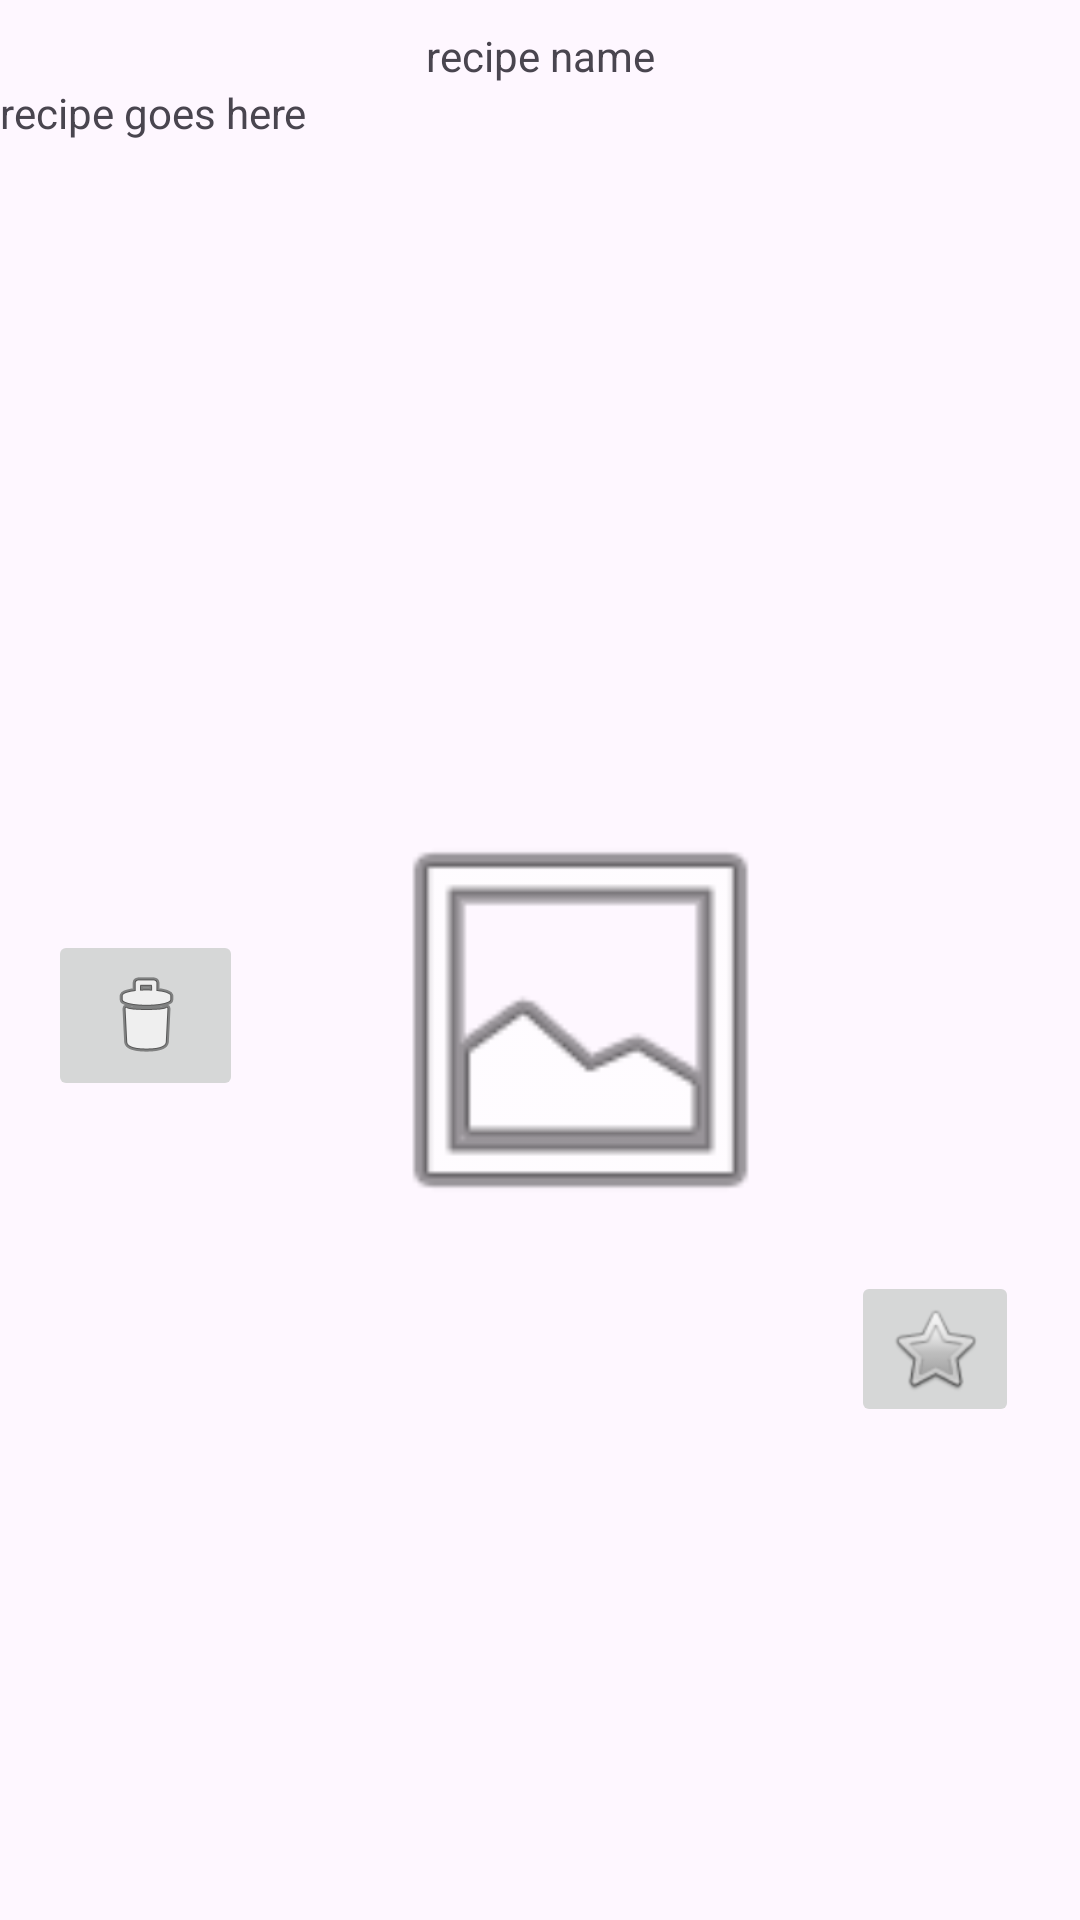

Icon click points for this 1080×1920 phone screenshot, format (x=x, y=y):
delete: (x=145, y=1015)
gallery: (x=580, y=1020)
star off: (x=935, y=1349)
